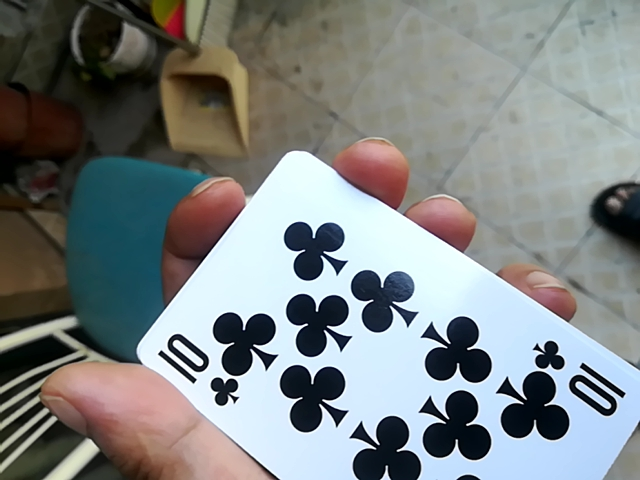mh 10: (108, 150, 629, 477)
